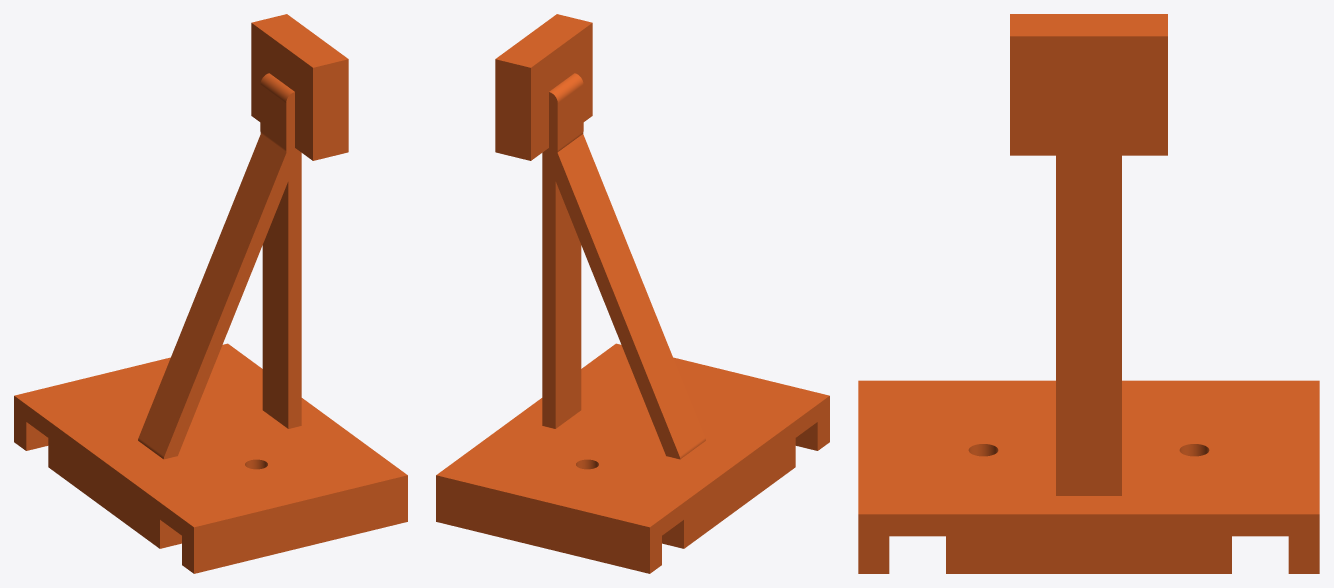
File: 04-left.glb
3 renders of one model, left to right at view 1: azimuth 30°, elevation 25°; view 2: azimuth 150°, elevation 25°; view 3: azimuth 270°, elevation 25°, orthographic. The views are drawn at different scales.
Visible parts, largest first — view 1: left_solid; view 2: left_solid; view 3: left_solid.
Part boxes in pixels (x1,y1,x2,y2): left_solid: (14, 14, 407, 573); left_solid: (436, 14, 829, 573); left_solid: (858, 14, 1319, 573).
Bounding box in the file's own units: 48 × 90 × 70.
